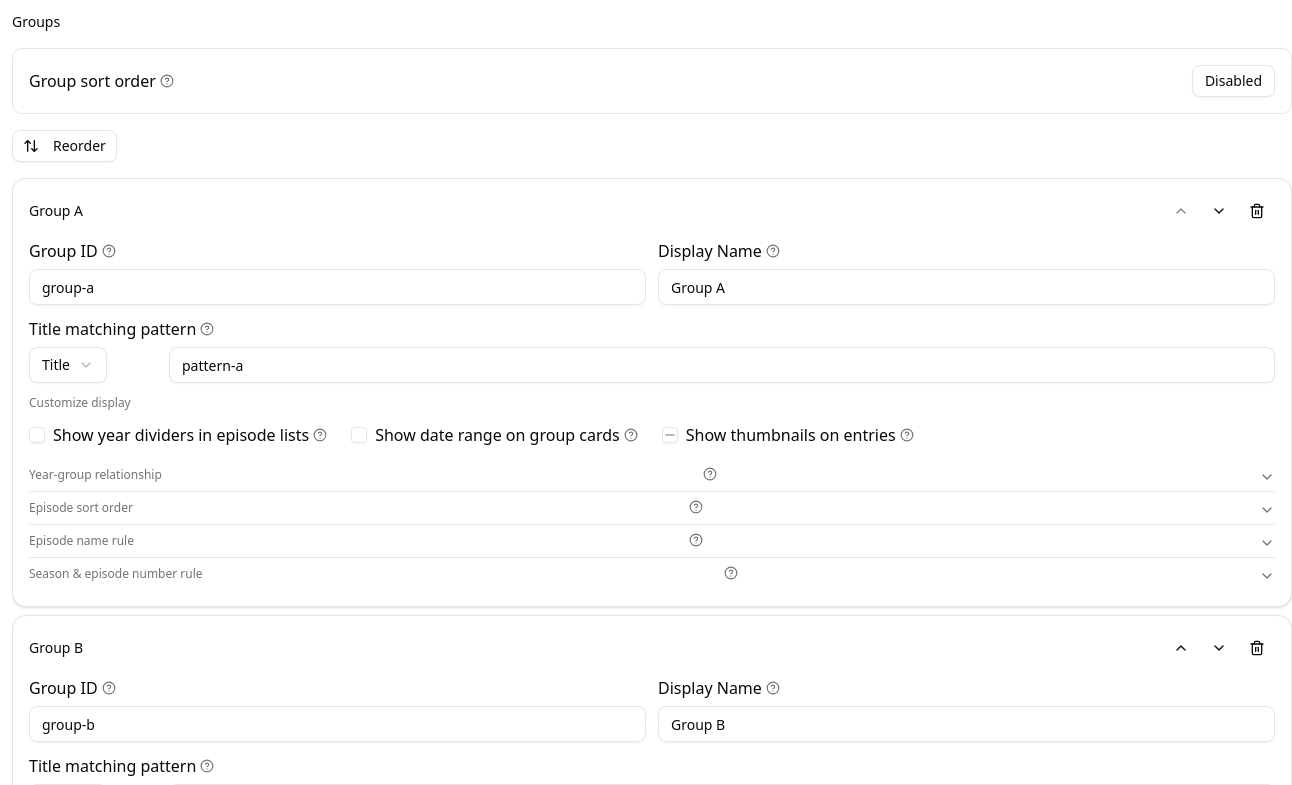
Test case: GroupsForm › removes a group card when remove button is clicked
Note: Remove the first group (Group A)
Step 1. Click the button named "remove" in the row of "Group A" → (1257, 211), box [1239,195,1275,227]
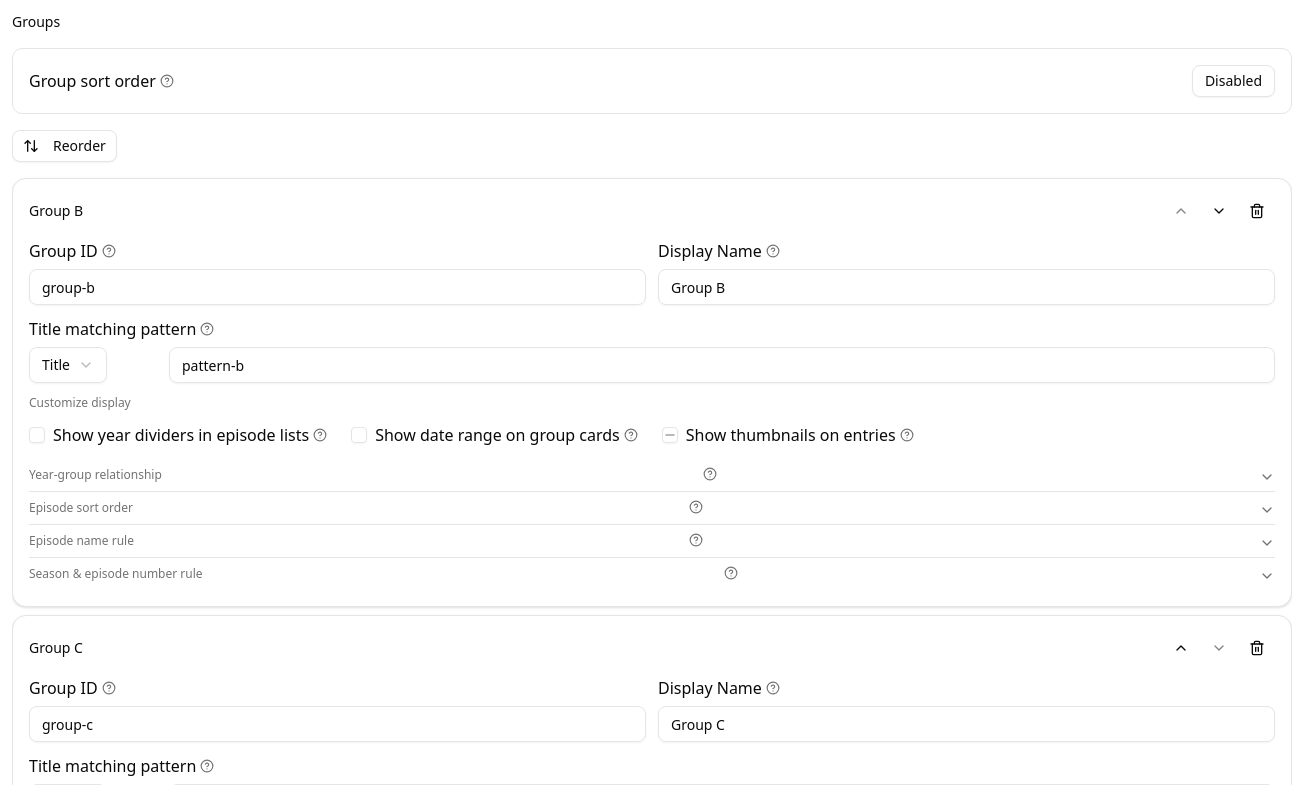
Check: the text "Group B" is shown, box [29,201,83,221]
Check: the text "Group A" is gone
